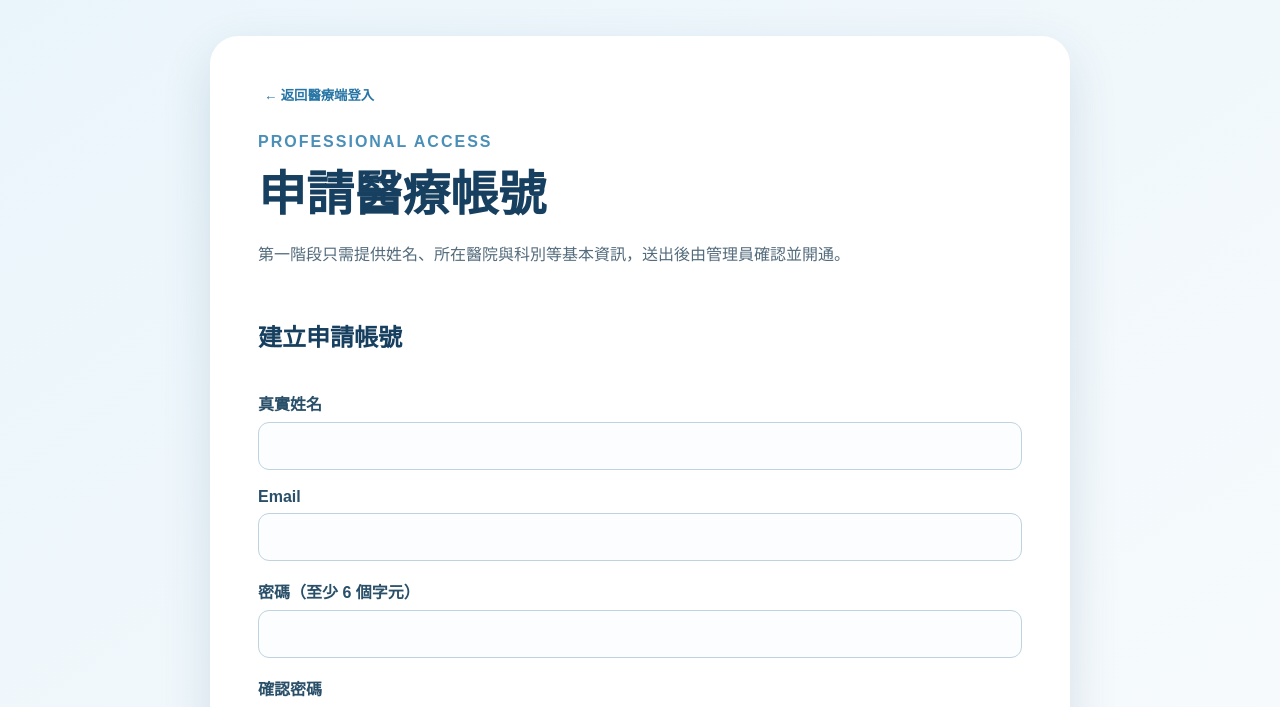
Test case: an existing pending clinician application still requires administrator review
This screenshot has width=1280, height=707.
Type "陳醫師" into the field labelled "真實姓名" at (640, 446), box [258, 422, 1022, 470]
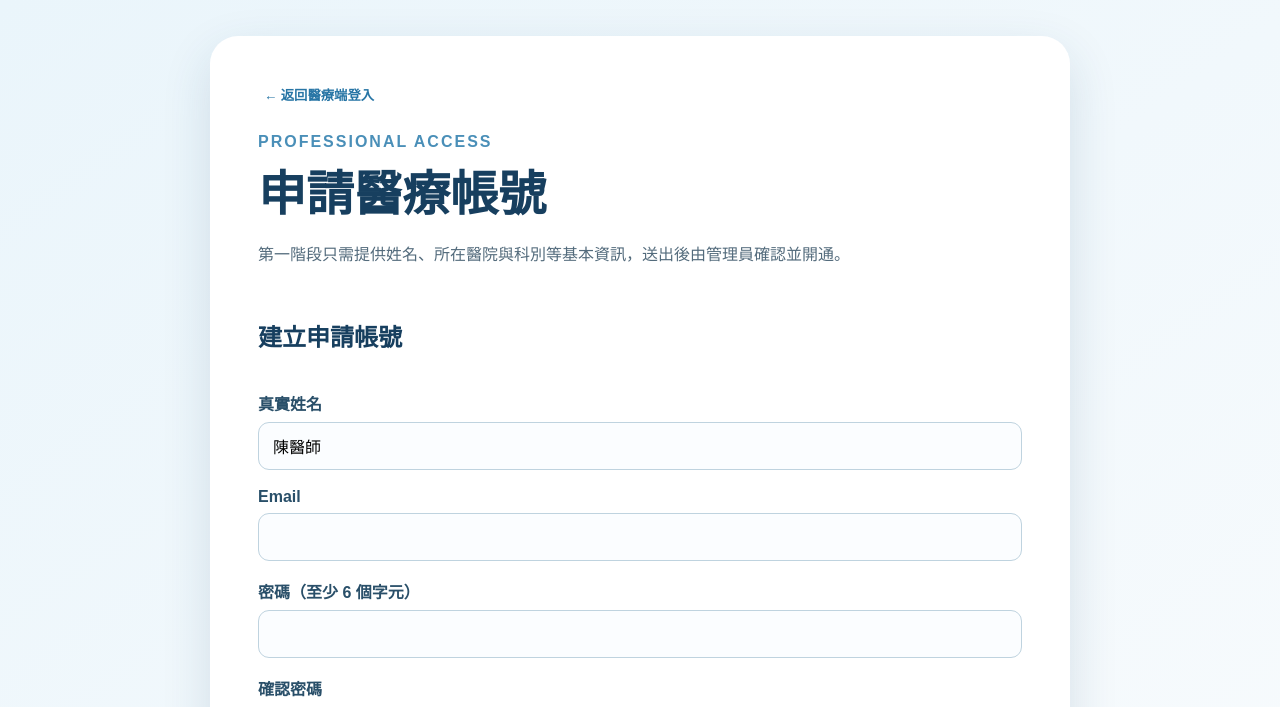
Type "Doctor@example.com" into the field labelled "Email" at (640, 537), box [258, 513, 1022, 561]
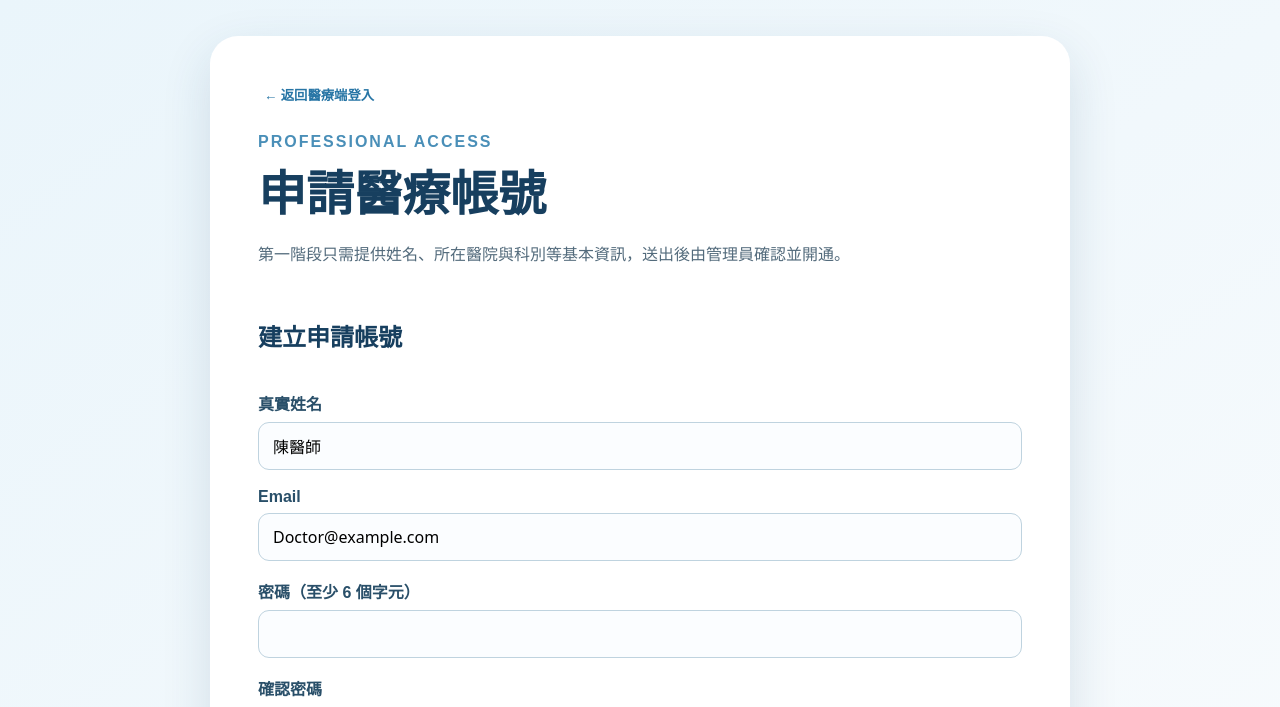
Type "password123" into the password field labelled "密碼（至少 6 個字元）" at (640, 634), box [258, 610, 1022, 658]
(page scrolled)
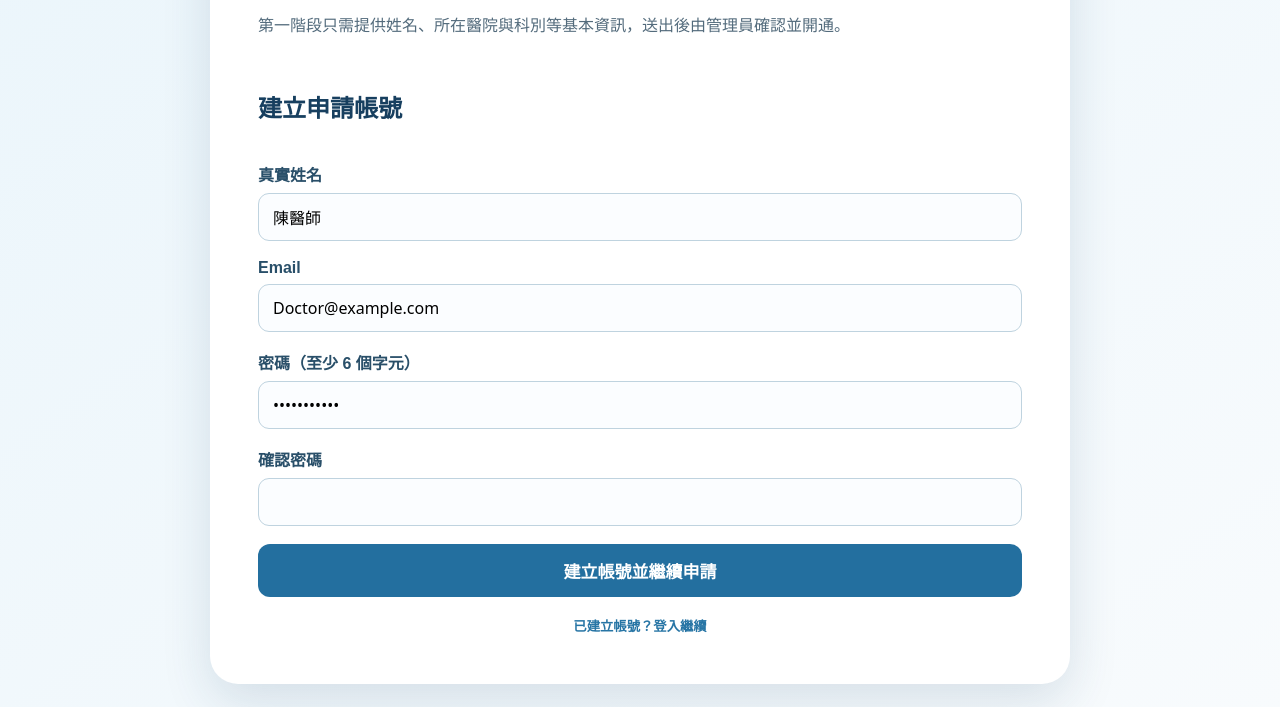
Type "password123" into the password field labelled "確認密碼" at (640, 502), box [258, 478, 1022, 526]
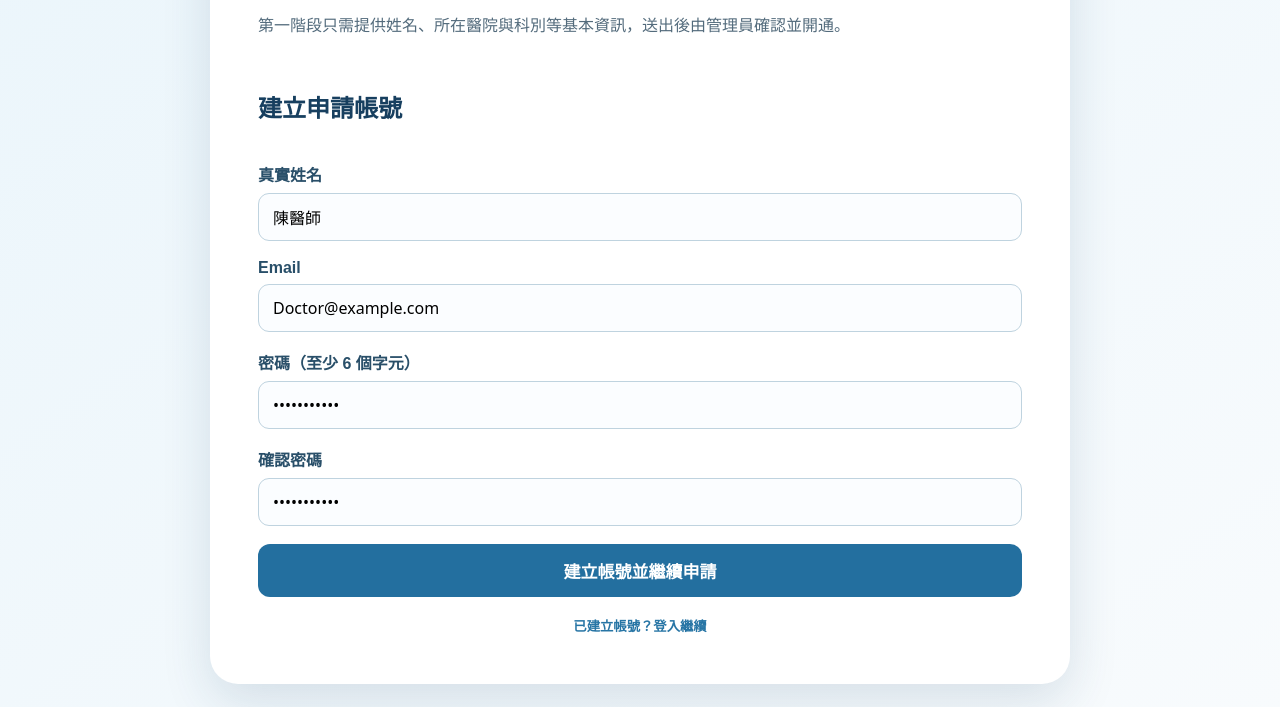
Submit the form, box [258, 69, 1022, 636]
(page scrolled)
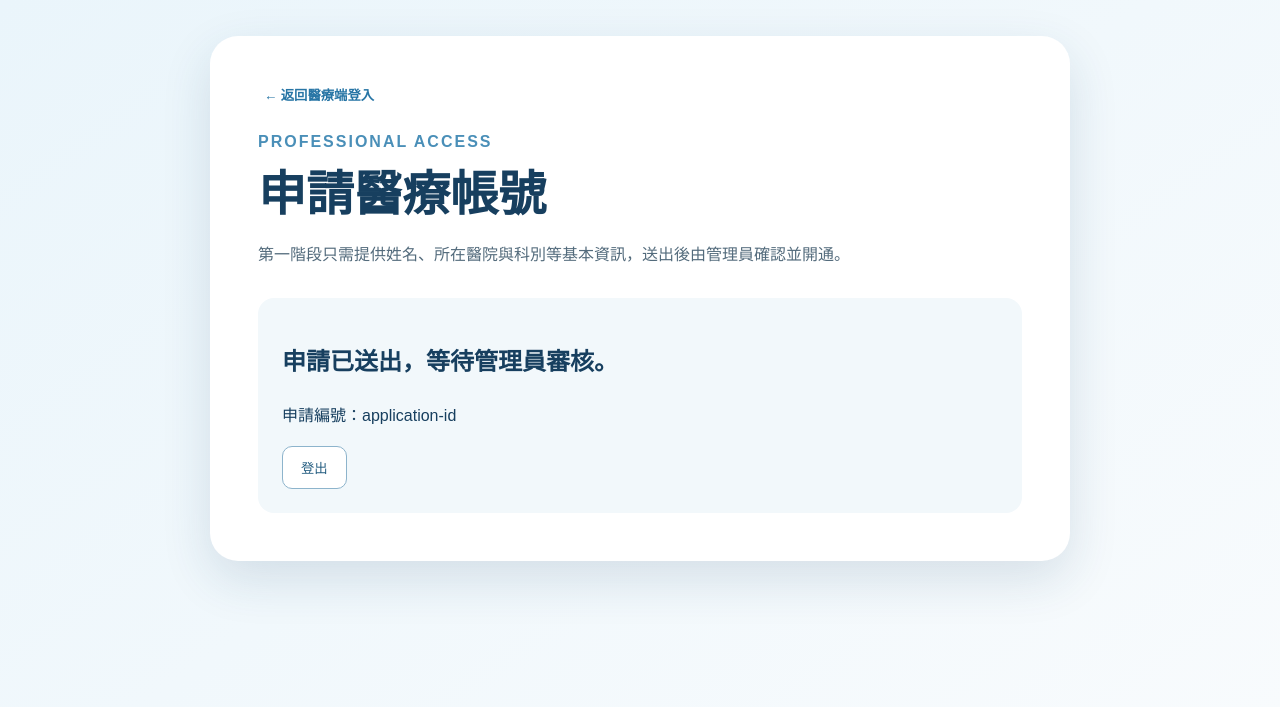
Result: the heading "申請已送出，等待管理員審核。" is shown at [282, 348, 618, 375]
